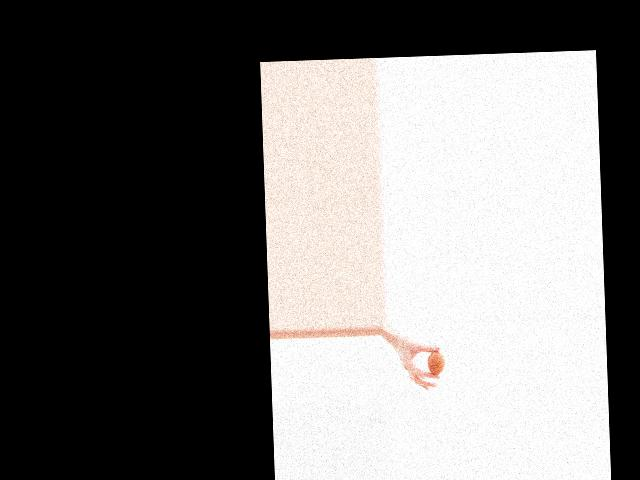egg: (427, 350, 445, 375)
